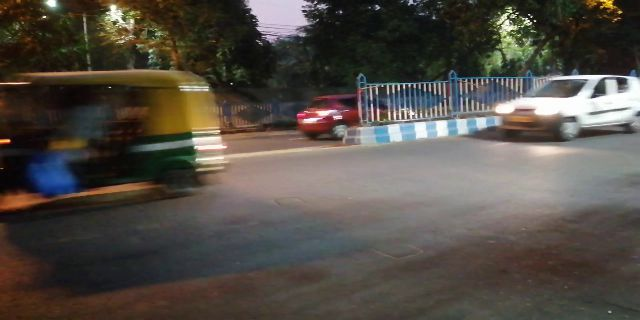Autorickshaw: (21, 68, 232, 199)
Car: (499, 71, 640, 143), (293, 92, 357, 141)
